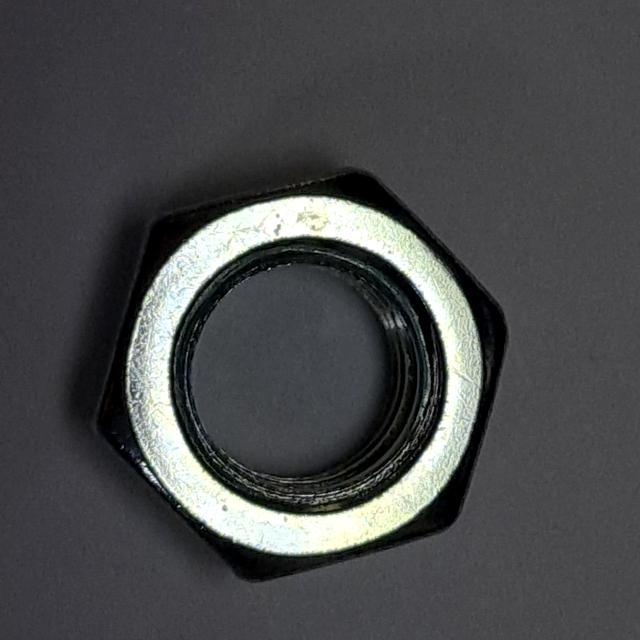Excellent: (83, 154, 522, 594)
